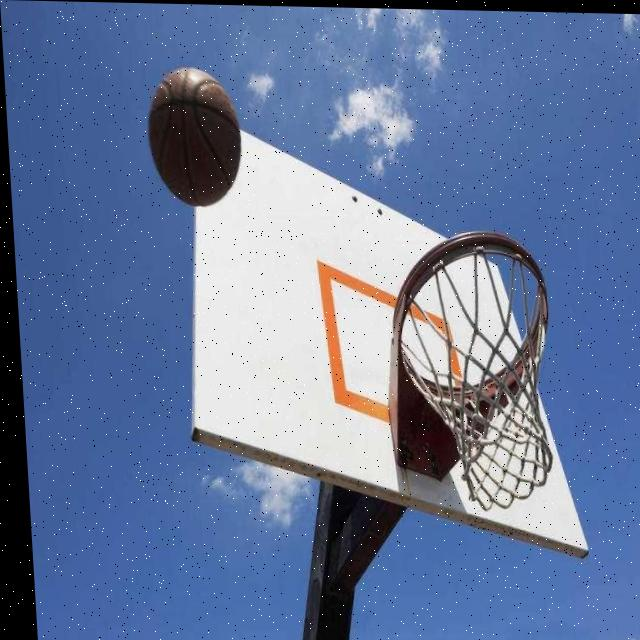basketball: (145, 65, 245, 206)
hoop: (388, 229, 561, 510)
